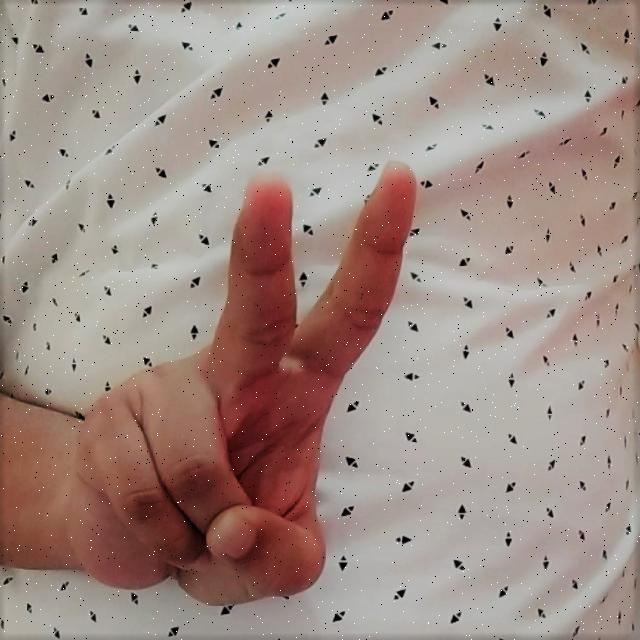V: (61, 141, 448, 614)
